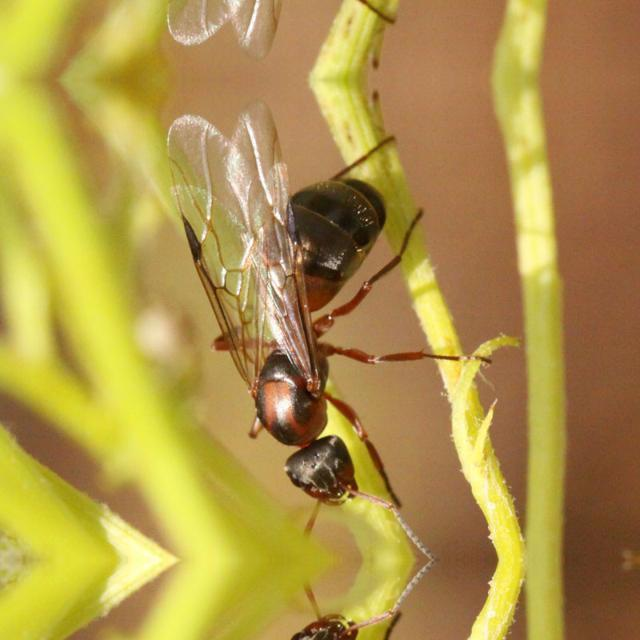Formica: (143, 150, 437, 522)
